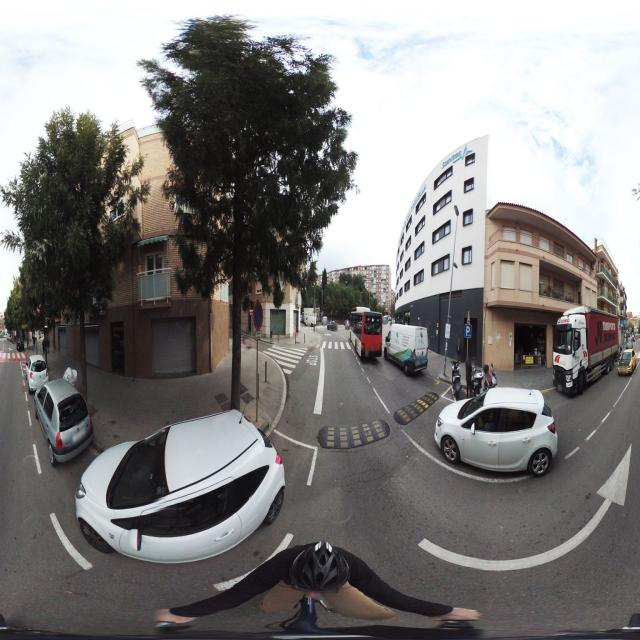forb_stopping: (253, 301, 263, 331)
